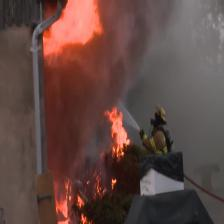fire: (38, 104, 167, 224), (31, 0, 122, 65)
smoke: (60, 18, 224, 94)
